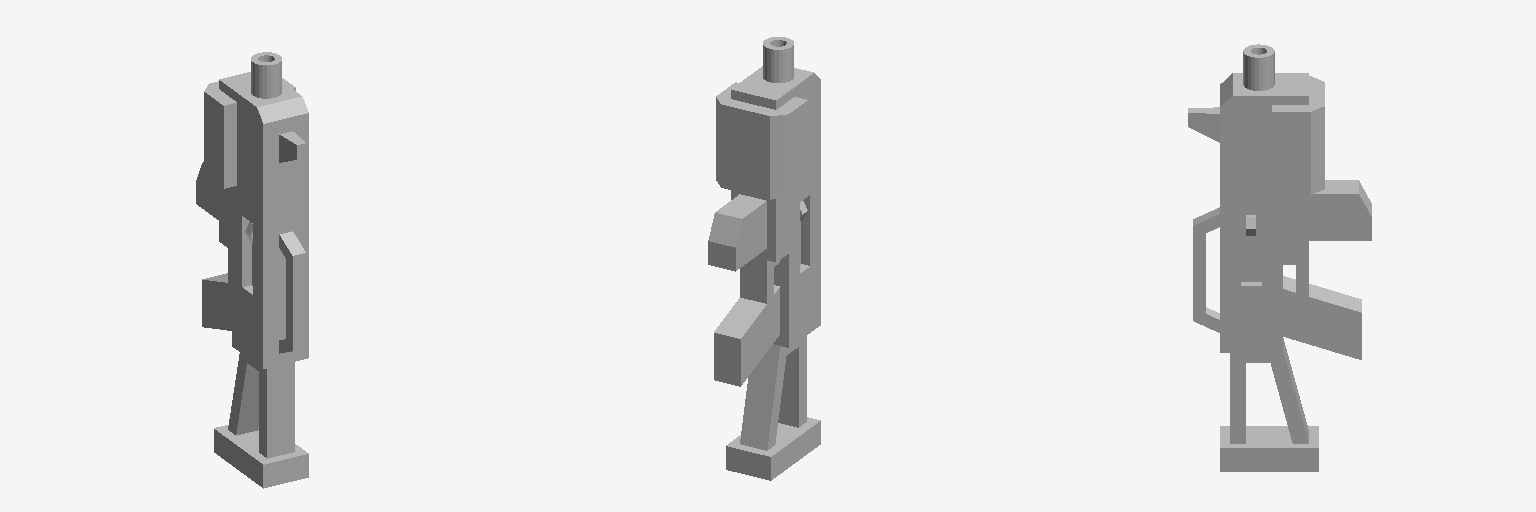
File: AssaultRifle.obj
The picture shows the model from 3 angles: view 1: azimuth 30°, elevation 25°; view 2: azimuth 150°, elevation 25°; view 3: azimuth 270°, elevation 25°; orthographic projection.
Parts seen in each view (by area): view 1: AssaultRifle; view 2: AssaultRifle; view 3: AssaultRifle.
Boxes of the visible parts, box(x1,y1,x2,y2) form: AssaultRifle: box(196, 52, 308, 488); AssaultRifle: box(708, 37, 820, 480); AssaultRifle: box(1188, 44, 1371, 471).
Size of the model in its own units: 1.6 by 8.6 by 3.5.